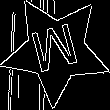M_S: (28, 20, 84, 81)
